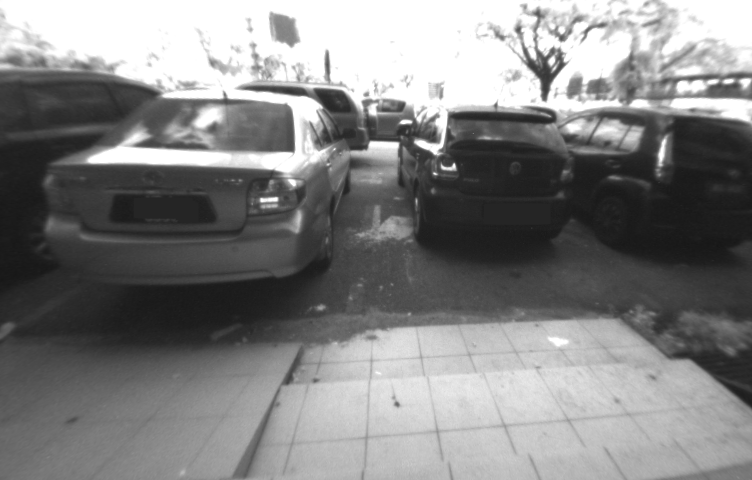down_steps: (277, 305, 731, 477)
mixed_gradient: (190, 332, 342, 480)
uncovered_drainage: (670, 330, 752, 417)
